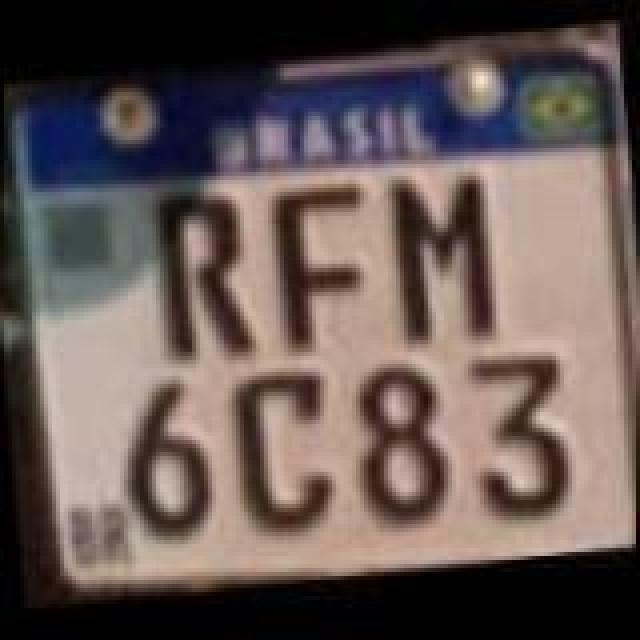3: (458, 340, 578, 520)
6: (112, 372, 220, 540)
8: (346, 358, 458, 526)
C: (228, 360, 344, 536)
F: (264, 172, 376, 356)
M: (380, 164, 504, 348)
R: (146, 184, 262, 368)
